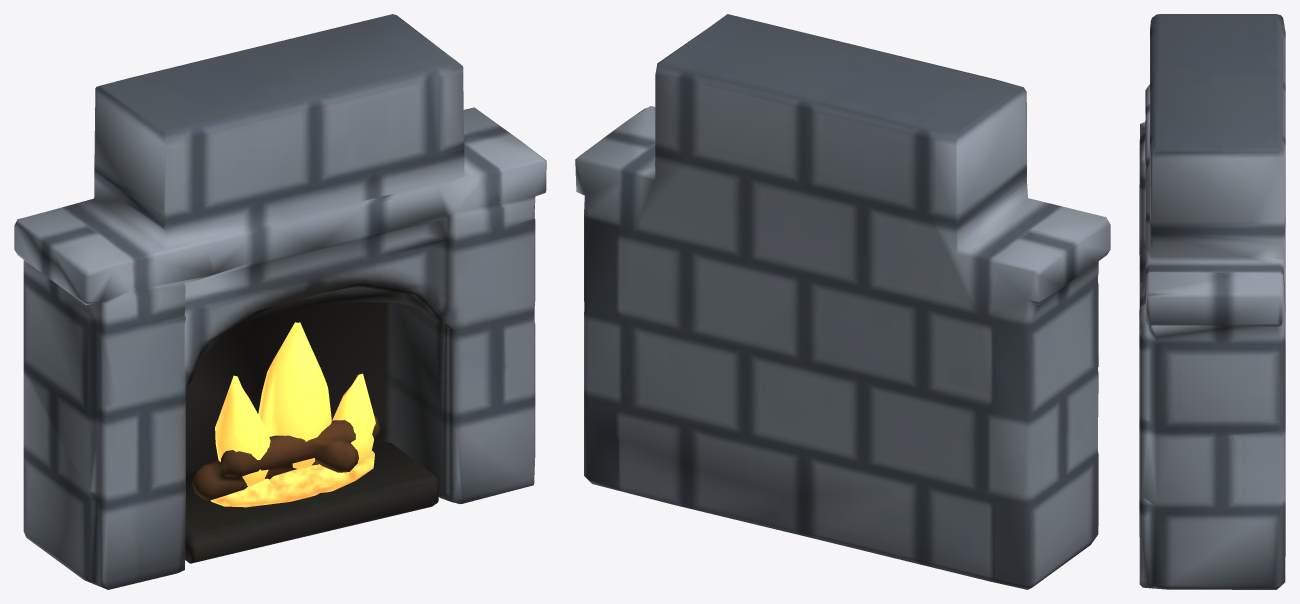
Rendered from fireplace.glb.
The picture shows the model from 3 angles, left to right: view 1: azimuth 30°, elevation 25°; view 2: azimuth 150°, elevation 25°; view 3: azimuth 270°, elevation 25°; orthographic projection. The views are drawn at different scales.
Parts seen in each view (by area): view 1: stone, flames, embers; view 2: stone; view 3: stone.
Part boxes in pixels (bbox=[...]): stone: bbox=[14, 14, 546, 589]; flames: bbox=[215, 322, 375, 486]; embers: bbox=[210, 451, 374, 507]; stone: bbox=[575, 14, 1110, 589]; stone: bbox=[1139, 14, 1285, 589].
Size of the model in its own units: 1.66 by 1.5 by 0.485.
3 materials, 3 textured.
